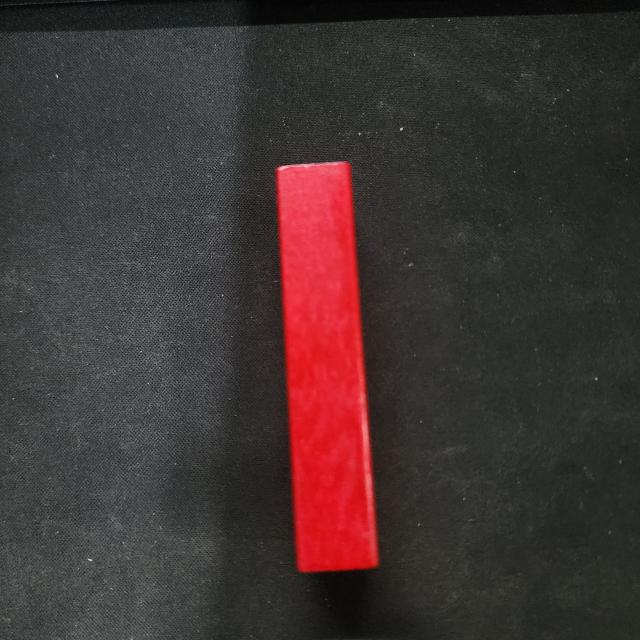red: (274, 162, 379, 572)
